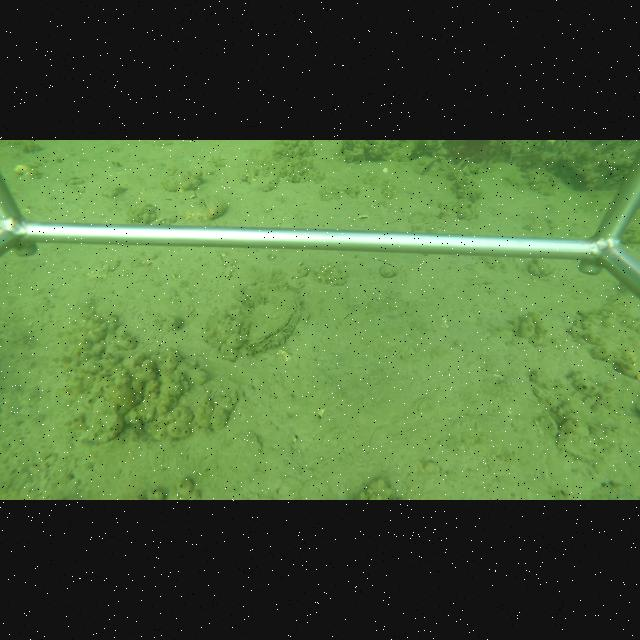Oyster-Closed: (235, 286, 303, 354), (417, 156, 451, 176)
Oyster-Open: (199, 193, 226, 221), (457, 156, 482, 173)
